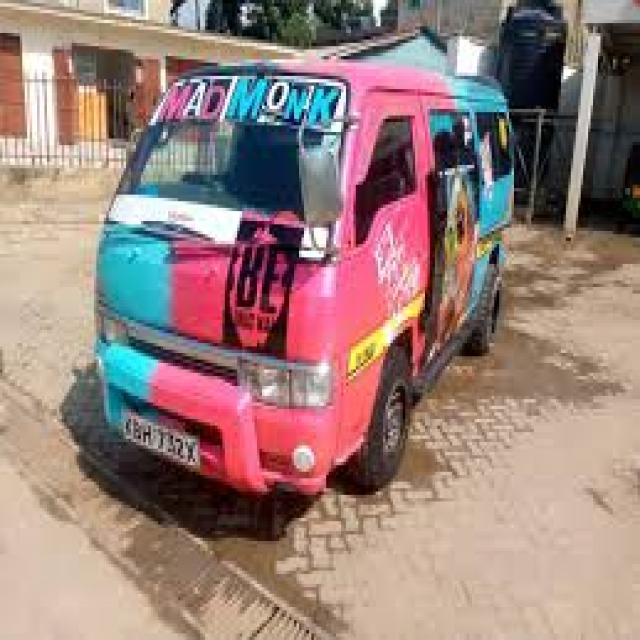matatu: (73, 28, 553, 528)
